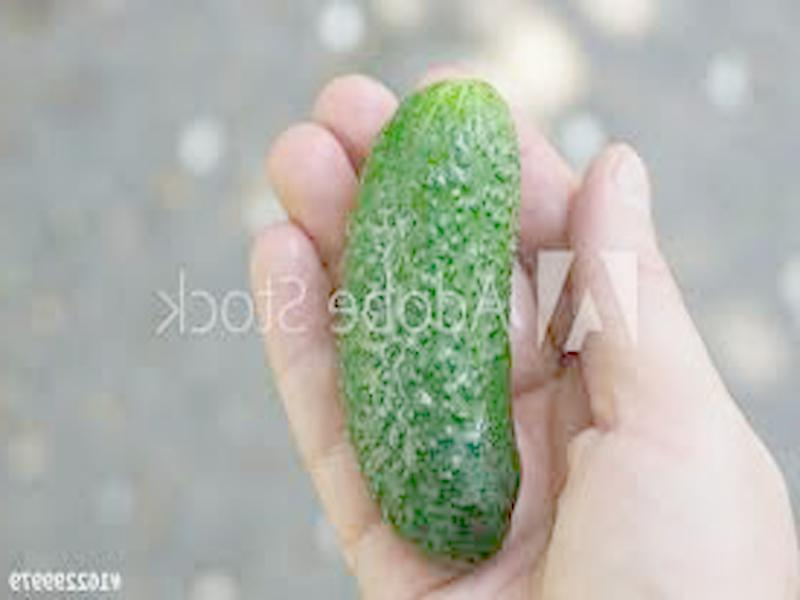Cucumber: (334, 82, 520, 564)
